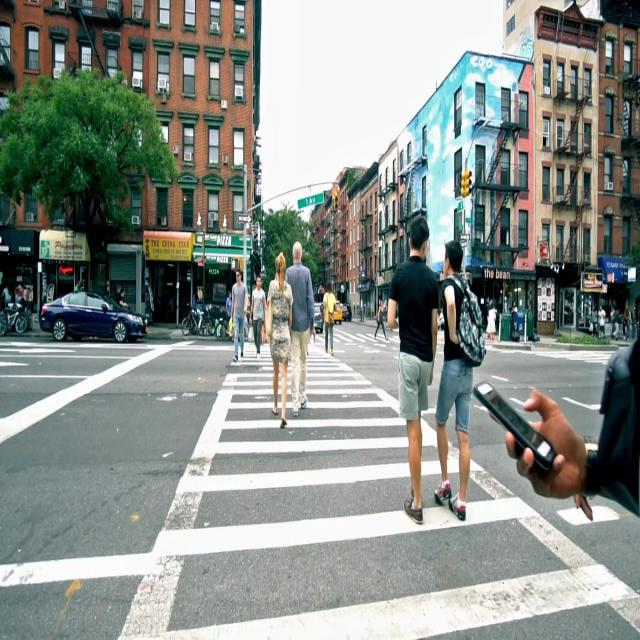Persona: (386, 214, 439, 529), (435, 239, 481, 528), (267, 248, 293, 429), (288, 240, 314, 414), (228, 265, 249, 365)
